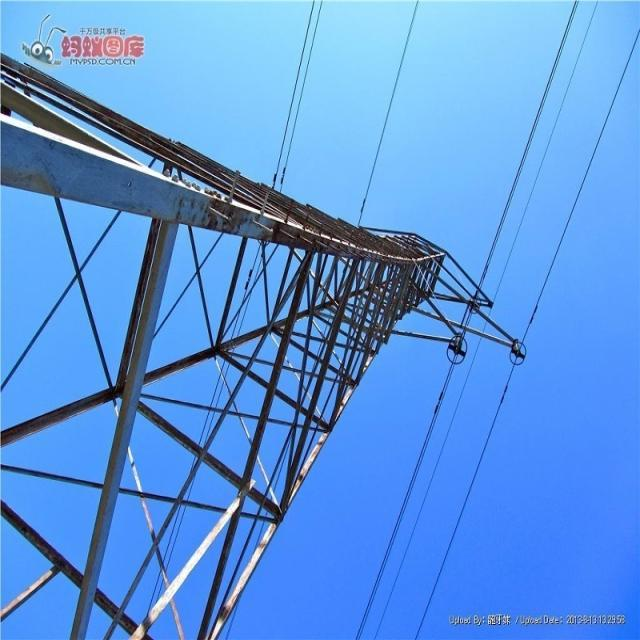non-critical vegetation: (23, 222, 500, 600)
